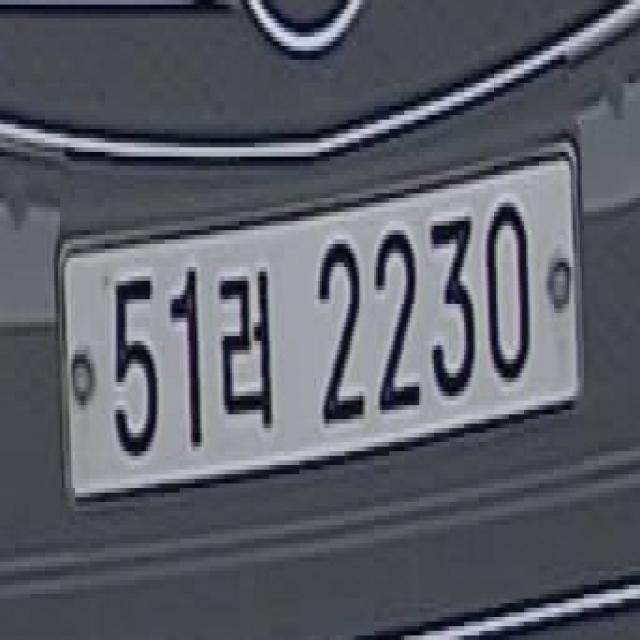0: (485, 186, 535, 406)
1: (167, 252, 207, 470)
2: (314, 220, 366, 446), (372, 214, 423, 430)
3: (428, 198, 476, 416)
5: (110, 260, 161, 472)
leo: (213, 254, 280, 451)
license_plate: (45, 98, 600, 545)
